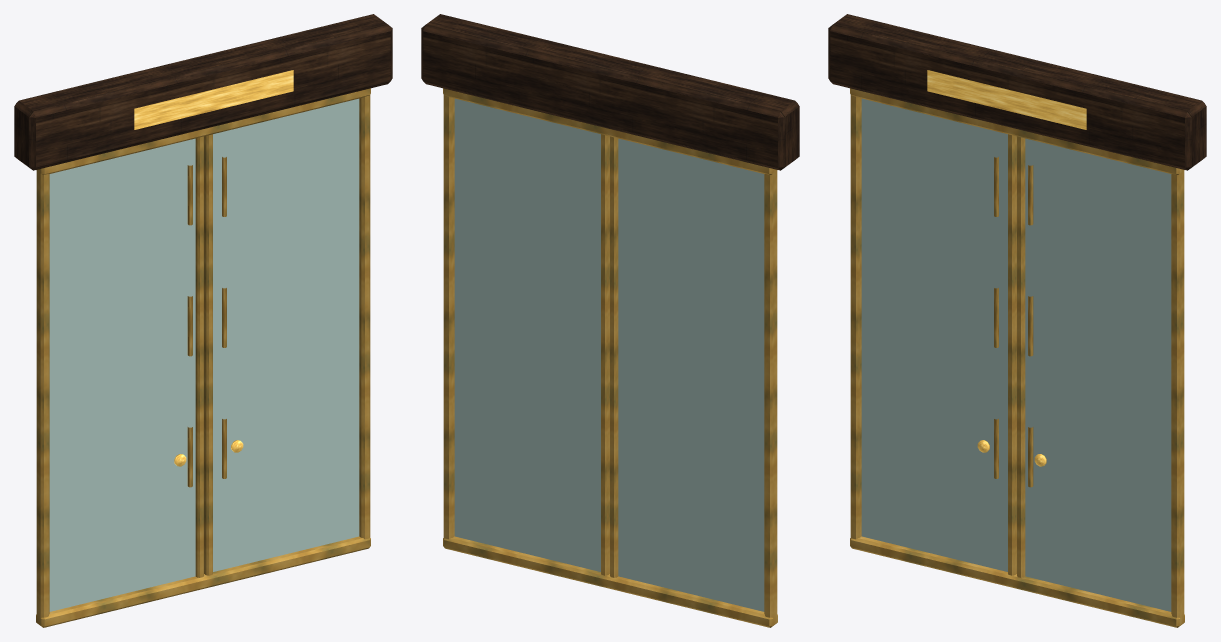
File: sp_vault_door.glb
3 renders of one model, left to right at view 1: azimuth 30°, elevation 25°; view 2: azimuth 150°, elevation 25°; view 3: azimuth 330°, elevation 25°, orthographic.
Visible parts, largest first — view 1: spire; view 2: spire; view 3: spire.
Boxes of the visible parts, x1,y1,x2,y2 form: spire: (14, 14, 392, 627); spire: (421, 14, 799, 627); spire: (828, 14, 1206, 627).
Bounding box in the file's own units: 3.2 × 4.4 × 0.31.
4 materials, 3 textured.
